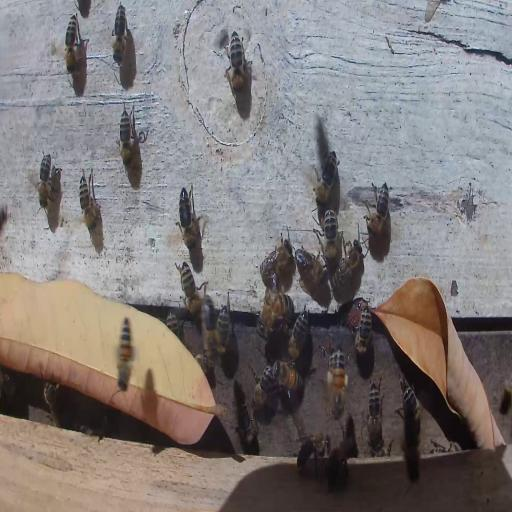bee: (325, 342, 350, 422), (114, 314, 138, 391), (258, 234, 292, 284), (77, 170, 101, 235), (177, 184, 201, 248), (313, 148, 338, 207), (234, 401, 260, 454), (252, 365, 278, 417), (366, 180, 391, 234), (334, 238, 361, 287), (326, 440, 352, 490), (296, 434, 330, 470), (179, 259, 199, 320), (295, 246, 325, 286), (227, 30, 245, 96), (353, 305, 374, 359), (399, 378, 421, 427), (272, 361, 304, 394), (288, 308, 308, 360), (118, 105, 134, 169), (320, 208, 338, 262), (367, 378, 381, 446), (112, 3, 127, 66), (263, 292, 294, 320), (404, 429, 420, 483), (38, 151, 52, 210), (215, 302, 231, 353), (204, 302, 219, 356), (142, 369, 156, 421), (65, 14, 77, 74), (44, 380, 59, 418), (262, 292, 274, 334), (370, 439, 392, 457)
